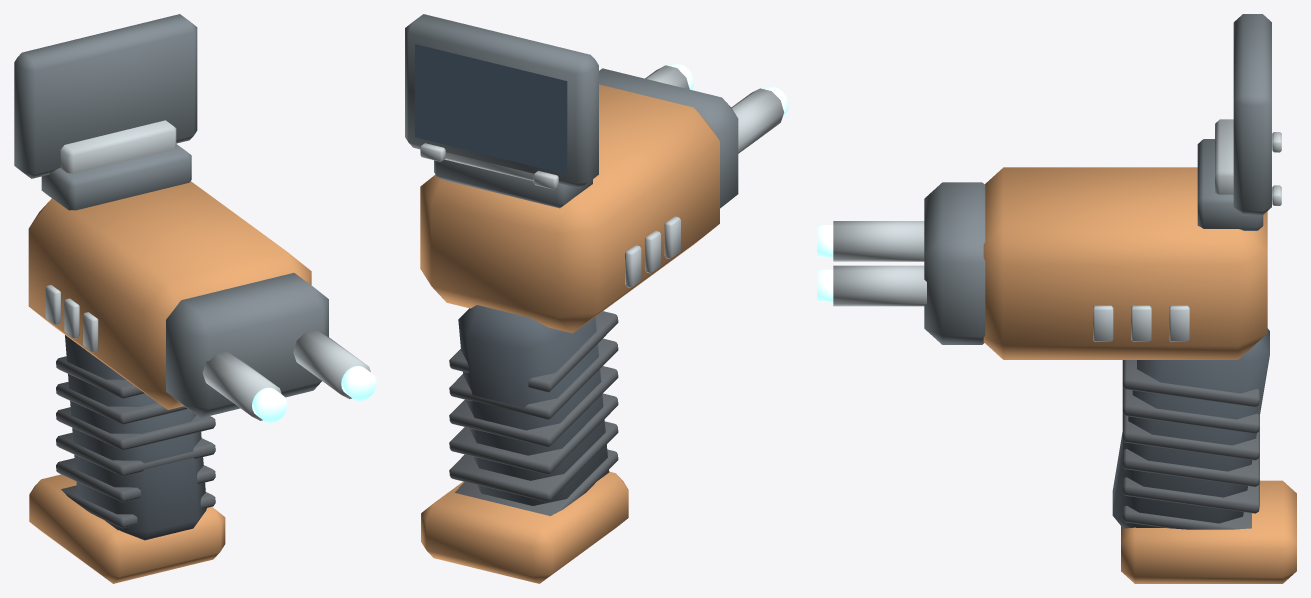
Rendered from build_gun_standard.glb.
The picture shows the model from 3 angles, left to right: view 1: azimuth 30°, elevation 25°; view 2: azimuth 150°, elevation 25°; view 3: azimuth 270°, elevation 25°; orthographic projection. The views are drawn at different scales.
Visible parts, largest first — view 1: ToolBody_orange, LiveViewSurfaceFrame_frame, NoseHousing_frame, Grip_black, Battery_orange, GripRib_rubber, DisplayMount_frame, EmitterRail_steel, DisplayBracket_steel, Emitter_cyan, HousingVent_steel; view 2: ToolBody_orange, Grip_black, LiveViewSurface_glass, GripRib_rubber, Battery_orange, LiveViewSurfaceFrame_frame, NoseHousing_frame, DisplayMount_frame, EmitterRail_steel, HousingVent_steel, DisplayControls_steel, DisplayBracket_steel; view 3: ToolBody_orange, Grip_black, GripRib_rubber, Battery_orange, NoseHousing_frame, LiveViewSurfaceFrame_frame, EmitterRail_steel, DisplayMount_frame, HousingVent_steel, DisplayBracket_steel, Emitter_cyan.
Boxes of the visible parts, x1,y1,x2,y2 form: ToolBody_orange: (28, 181, 311, 409); LiveViewSurfaceFrame_frame: (14, 14, 197, 178); NoseHousing_frame: (166, 273, 328, 417); Grip_black: (65, 335, 206, 540); Battery_orange: (29, 474, 225, 583); GripRib_rubber: (56, 356, 215, 528); DisplayMount_frame: (41, 144, 191, 210); EmitterRail_steel: (202, 329, 370, 420); DisplayBracket_steel: (60, 120, 176, 173); Emitter_cyan: (252, 366, 376, 422); HousingVent_steel: (45, 285, 98, 352); ToolBody_orange: (420, 84, 719, 333); Grip_black: (458, 305, 609, 505); LiveViewSurface_glass: (415, 44, 567, 174); GripRib_rubber: (449, 311, 618, 515); Battery_orange: (421, 471, 628, 583); LiveViewSurfaceFrame_frame: (405, 14, 598, 188); NoseHousing_frame: (599, 68, 738, 208); DisplayMount_frame: (434, 159, 592, 208); EmitterRail_steel: (645, 65, 783, 153); HousingVent_steel: (625, 216, 680, 287); DisplayControls_steel: (420, 143, 558, 189); DisplayBracket_steel: (444, 152, 533, 180); ToolBody_orange: (983, 167, 1267, 359); Grip_black: (1112, 328, 1269, 528); GripRib_rubber: (1122, 360, 1259, 529); Battery_orange: (1121, 480, 1296, 583); NoseHousing_frame: (924, 182, 985, 344); LiveViewSurfaceFrame_frame: (1233, 14, 1271, 215); EmitterRail_steel: (833, 221, 926, 306); DisplayMount_frame: (1197, 139, 1263, 230); HousingVent_steel: (1093, 305, 1189, 341); DisplayBracket_steel: (1215, 119, 1233, 194); Emitter_cyan: (817, 225, 833, 302).
Bounding box in the file's own units: 0.371 × 0.95 × 0.8175.
